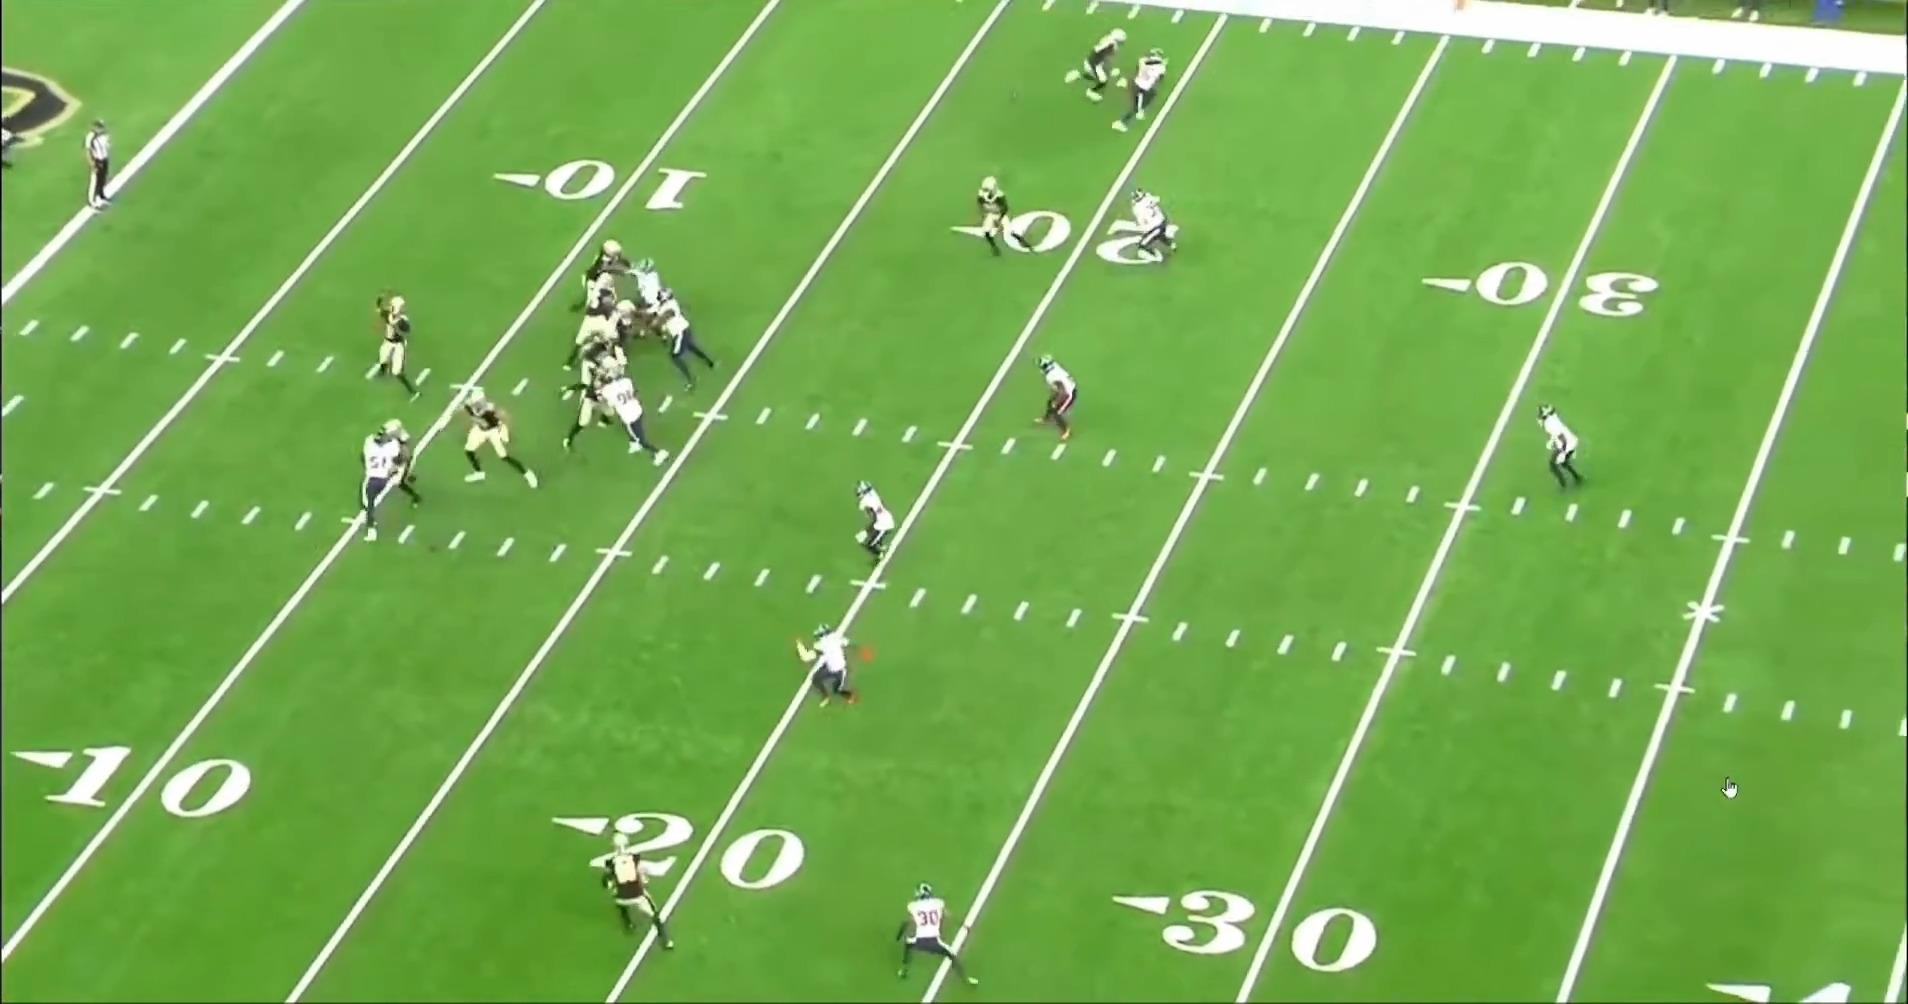defense: (892, 882, 977, 998), (650, 285, 729, 390), (356, 417, 421, 539), (603, 377, 678, 472), (794, 624, 869, 713), (1105, 47, 1170, 137), (1531, 405, 1582, 501), (1040, 352, 1089, 445), (856, 482, 905, 574), (1127, 185, 1181, 264), (627, 257, 668, 313)
oline: (461, 380, 548, 493), (568, 294, 646, 372), (551, 368, 620, 453), (556, 330, 623, 401), (579, 235, 631, 314)
qb: (374, 288, 425, 404)
ref: (79, 116, 117, 218)
skill: (606, 830, 684, 951), (1063, 21, 1133, 105), (964, 173, 1021, 260), (382, 419, 427, 506)
